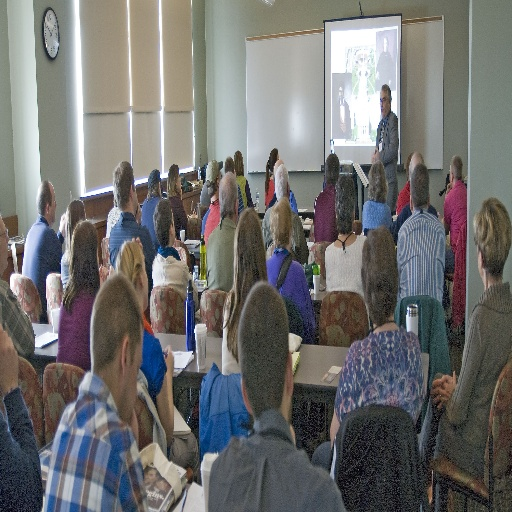hand: (0, 324, 18, 399), (429, 376, 452, 408), (438, 369, 454, 410), (128, 406, 139, 446), (162, 341, 174, 376), (131, 232, 144, 261), (58, 212, 66, 240), (97, 261, 106, 285), (134, 200, 142, 223), (102, 264, 114, 279), (370, 145, 378, 163), (289, 422, 295, 445), (179, 185, 182, 201), (436, 208, 440, 220), (192, 206, 197, 215), (445, 184, 450, 193), (185, 211, 190, 219), (374, 70, 379, 78), (388, 75, 391, 86)
